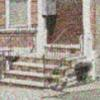stairs: (1, 53, 84, 91)
